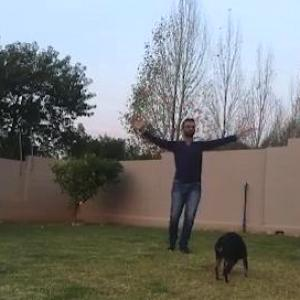takeoff: (133, 100, 260, 260)
